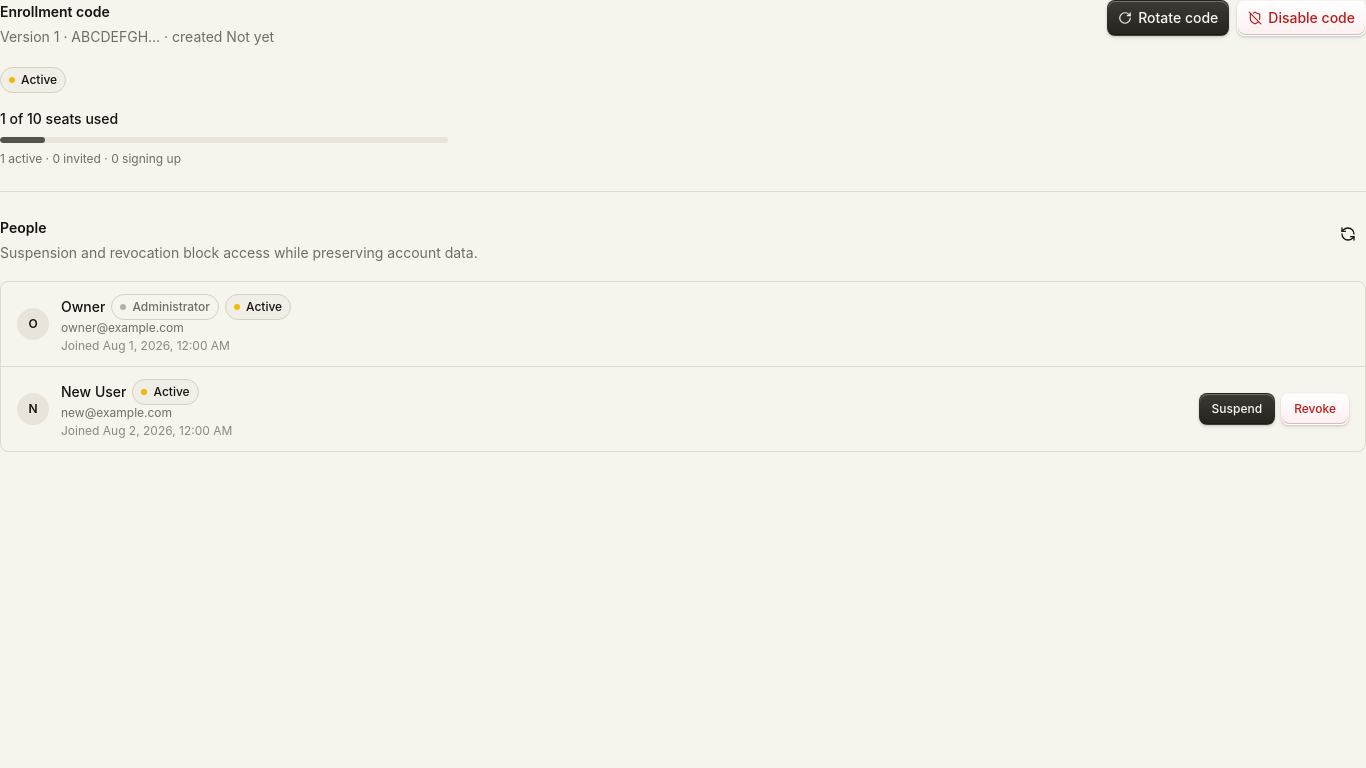
Test: AdminPeopleAccessCard › keeps a successfully disabled code closed when the follow-up refresh fails
Click the button "Disable code" at (1302, 18), box [1237,0,1365,36]
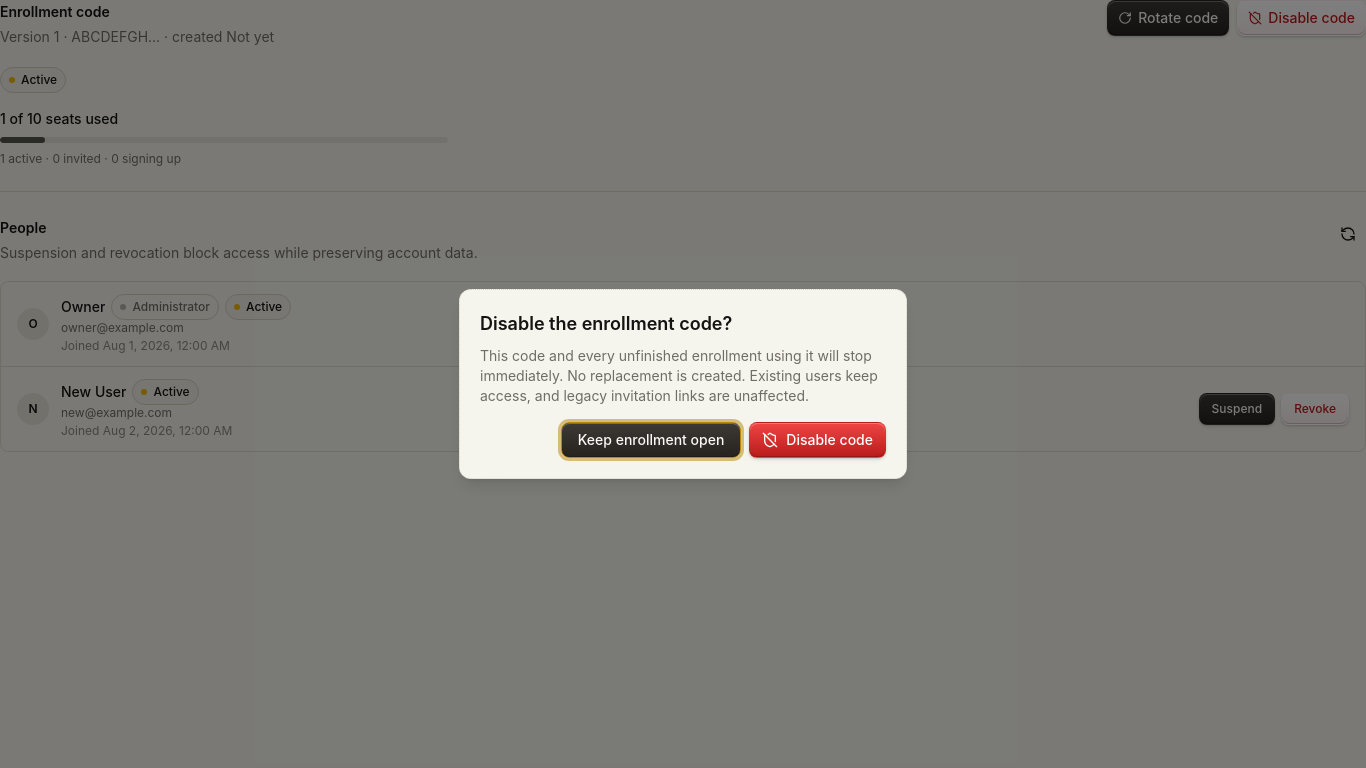
Click the button "Disable code" at (818, 440), box [749,422,886,458]
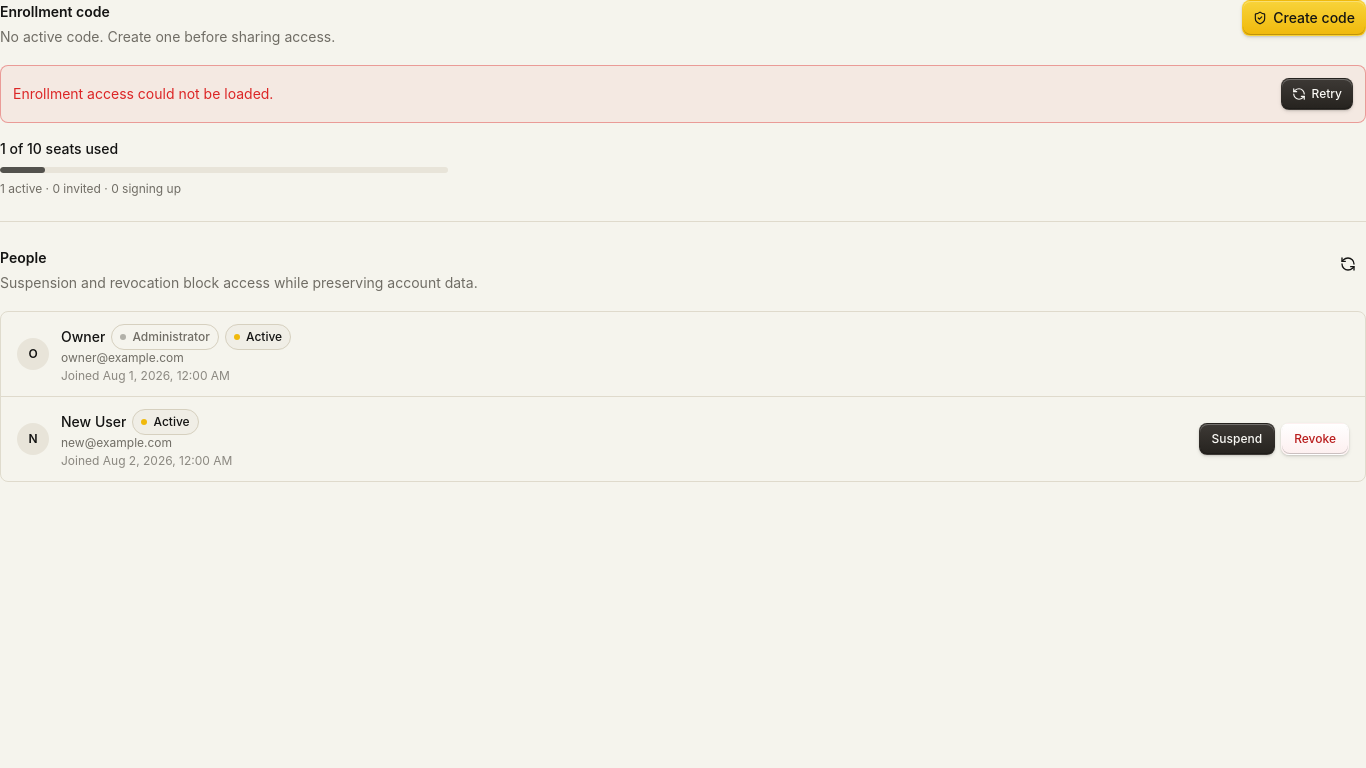
Now the button "Create code" is shown, box [1242,0,1365,36]
Now the message reads "Enrollment access could not be loaded.", box [13,85,273,102]
Now the button "Rotate code" is gone
